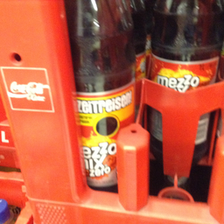soda: (63, 1, 136, 191), (147, 1, 222, 164)
